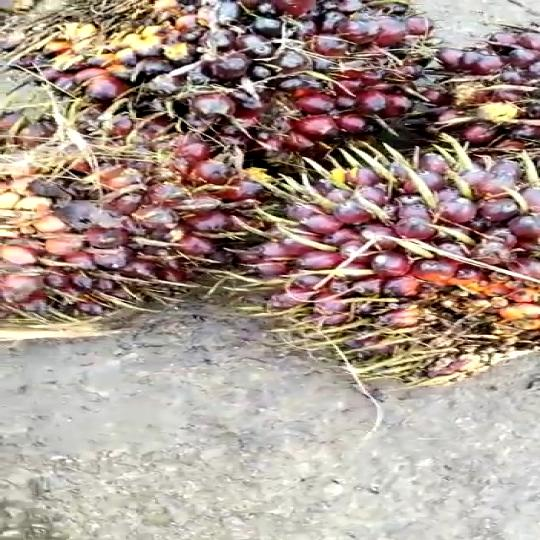kurang masak: (234, 137, 540, 373), (0, 98, 261, 329), (10, 0, 422, 95)
